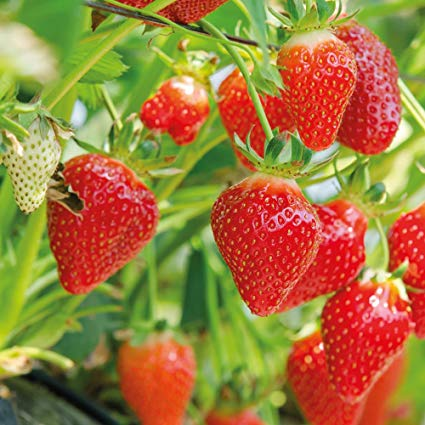ripe_strawberry: (46, 150, 163, 297), (209, 171, 324, 318), (320, 270, 412, 407), (273, 196, 370, 315), (276, 20, 358, 153), (329, 13, 403, 156), (218, 59, 297, 174), (284, 323, 367, 425), (115, 326, 200, 424), (383, 200, 425, 342), (138, 72, 212, 148), (98, 1, 234, 31)
unripe_strawberry: (2, 109, 63, 215)
